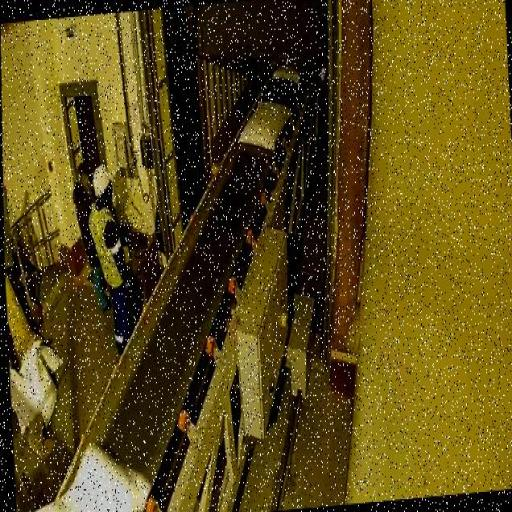c-belt-sack-count: (51, 445, 149, 511), (238, 100, 291, 153)
